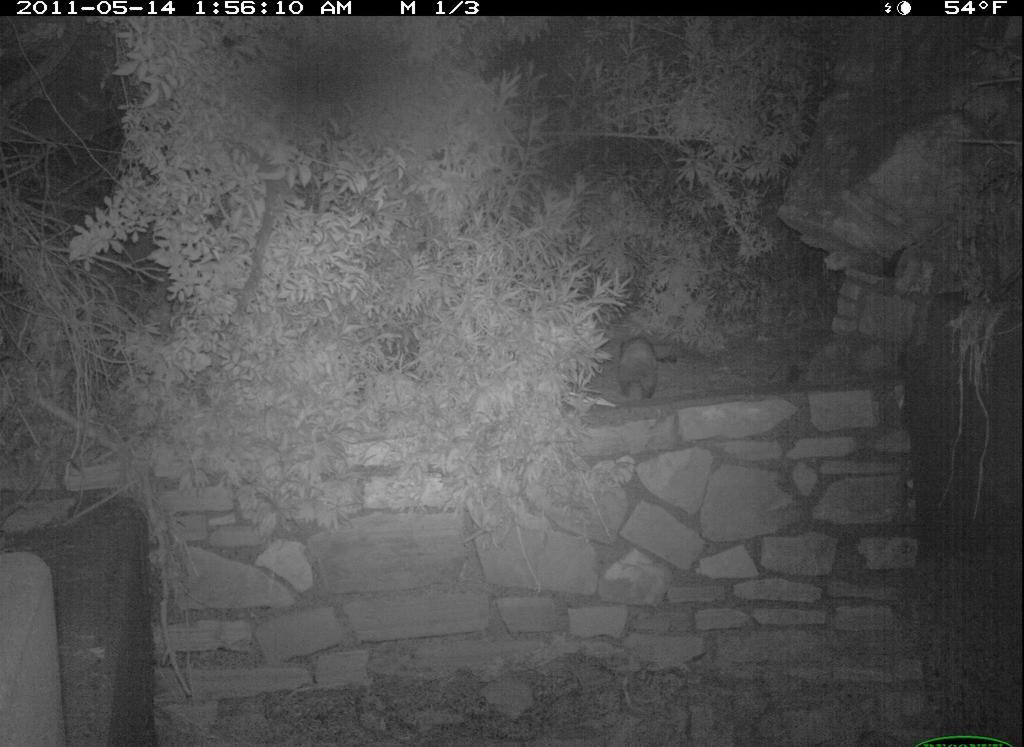opossum: (607, 327, 673, 406)
